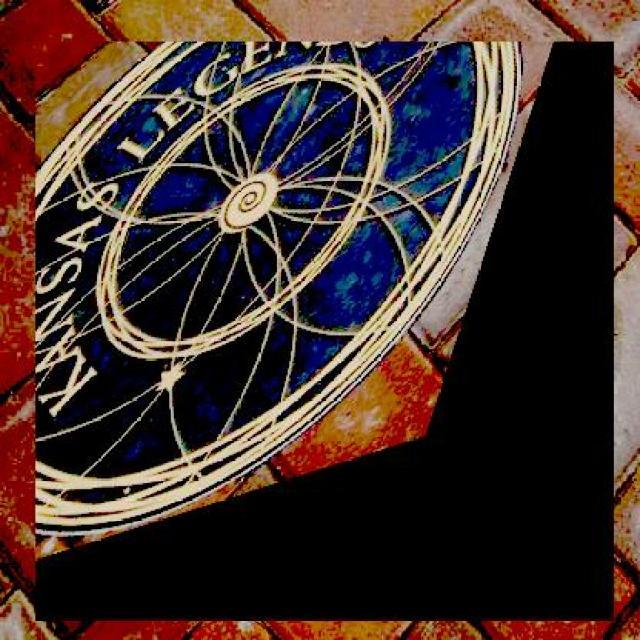Manhole: (35, 42, 614, 620)
